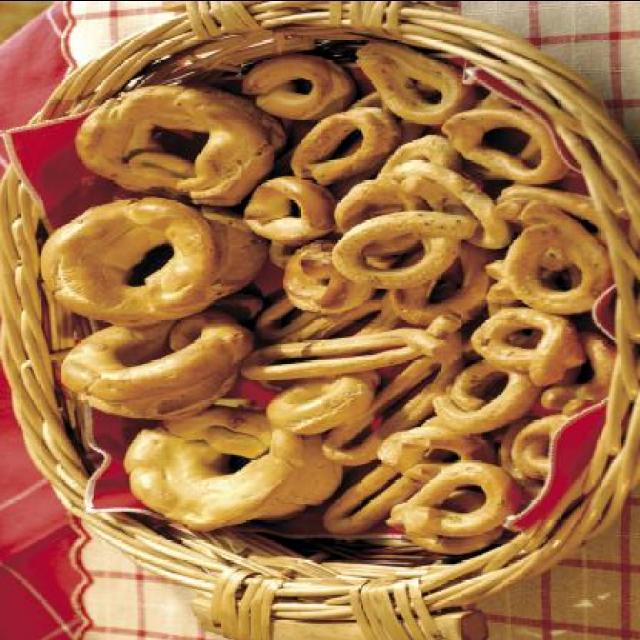Taralli: (41, 41, 594, 559)
